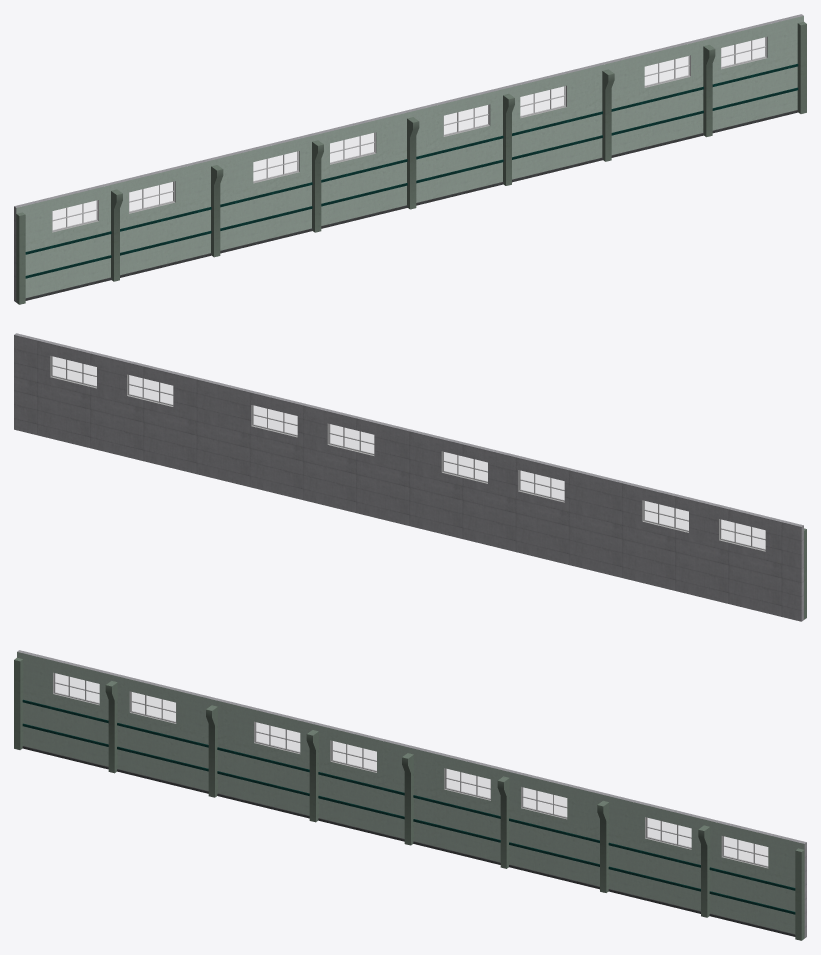
File: WareBig_Walls_Wind-transformed.glb
3 views of the same model, one above another, from view 1: azimuth 30°, elevation 25°; view 2: azimuth 150°, elevation 25°; view 3: azimuth 330°, elevation 25° (orthographic).
Parts seen in each view (by area): view 1: WareBig_Walls_Wind, WareBig_Column, WareBig_Windglass, WareBig_W, Object001, WareBig_Wind; view 2: WareBig_Walls_Wind, WareBig_Windglass, WareBig_Wind; view 3: WareBig_Walls_Wind, WareBig_Column, WareBig_Windglass, WareBig_W, Object001, WareBig_Wind.
Boxes of the visible parts, left/top/right/bottom form: WareBig_Walls_Wind: left=14, top=14, right=803, bottom=302; WareBig_Column: left=16, top=21, right=806, bottom=304; WareBig_Windglass: left=53, top=38, right=765, bottom=229; WareBig_W: left=25, top=63, right=798, bottom=278; Object001: left=25, top=110, right=798, bottom=300; WareBig_Wind: left=52, top=37, right=766, bottom=231; WareBig_Walls_Wind: left=14, top=333, right=803, bottom=621; WareBig_Windglass: left=52, top=357, right=765, bottom=548; WareBig_Wind: left=51, top=356, right=765, bottom=550; WareBig_Walls_Wind: left=17, top=650, right=806, bottom=938; WareBig_Column: left=14, top=657, right=804, bottom=940; WareBig_Windglass: left=55, top=673, right=767, bottom=865; WareBig_W: left=22, top=699, right=795, bottom=914; Object001: left=22, top=746, right=795, bottom=936; WareBig_Wind: left=54, top=673, right=768, bottom=867.
Size of the model in its own units: 76.17 by 8.75 by 1.38.
8 materials, 7 textured.
